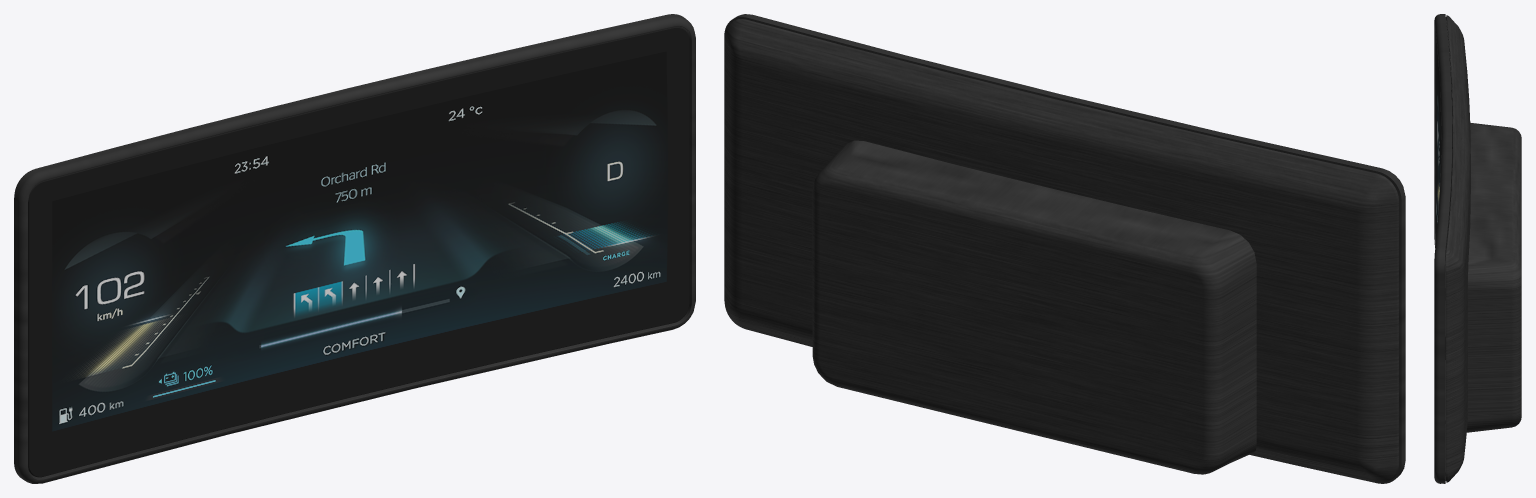
File: FIX_MID_2.fbx
3 views of the same model, side by side, from view 1: azimuth 30°, elevation 25°; view 2: azimuth 150°, elevation 25°; view 3: azimuth 270°, elevation 25° (orthographic). The views are drawn at different scales.
Visible parts, largest first — view 1: MID_2; view 2: MID_2; view 3: MID_2.
Part boxes in pixels (bbox=[...]): MID_2: bbox=[14, 14, 695, 483]; MID_2: bbox=[724, 14, 1405, 483]; MID_2: bbox=[1434, 14, 1521, 483].
Size of the model in its own units: 26.17 by 11.52 by 3.9.
1 material, 1 textured.
